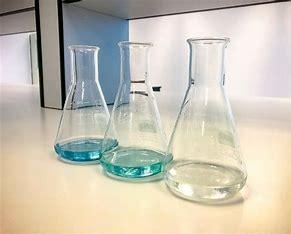Titrarion: (161, 27, 253, 203), (50, 32, 119, 173)
